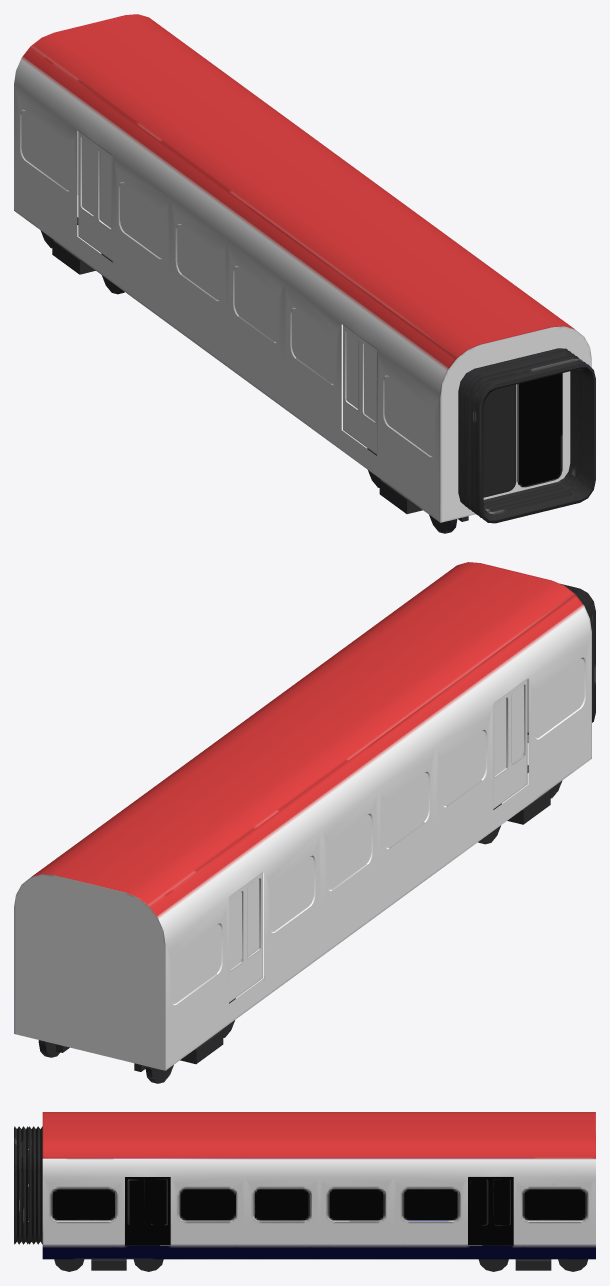
The model's file is mcd.fbx.
3 renders of one model, top to bottom at view 1: azimuth 30°, elevation 25°; view 2: azimuth 150°, elevation 25°; view 3: azimuth 270°, elevation 25°, orthographic. The views are drawn at different scales.
Parts seen in each view (by area): view 1: wagon-basic; view 2: wagon-basic; view 3: wagon-basic.
Part boxes in pixels (x1,y1,x2,y2): wagon-basic: (14, 14, 595, 533); wagon-basic: (14, 562, 595, 1083); wagon-basic: (14, 1112, 595, 1271).
Size of the model in its own units: 80 by 99.66 by 410.
